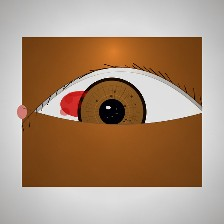hemorrhage_spot: (52, 80, 112, 128)
